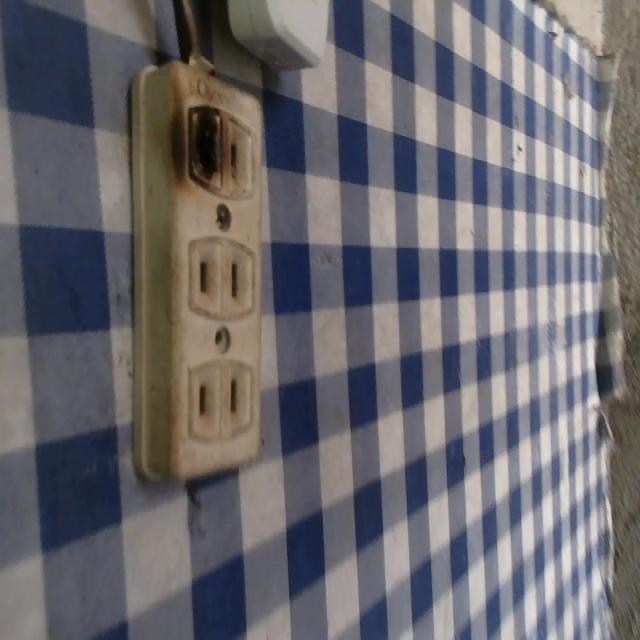-: (177, 89, 228, 203)
